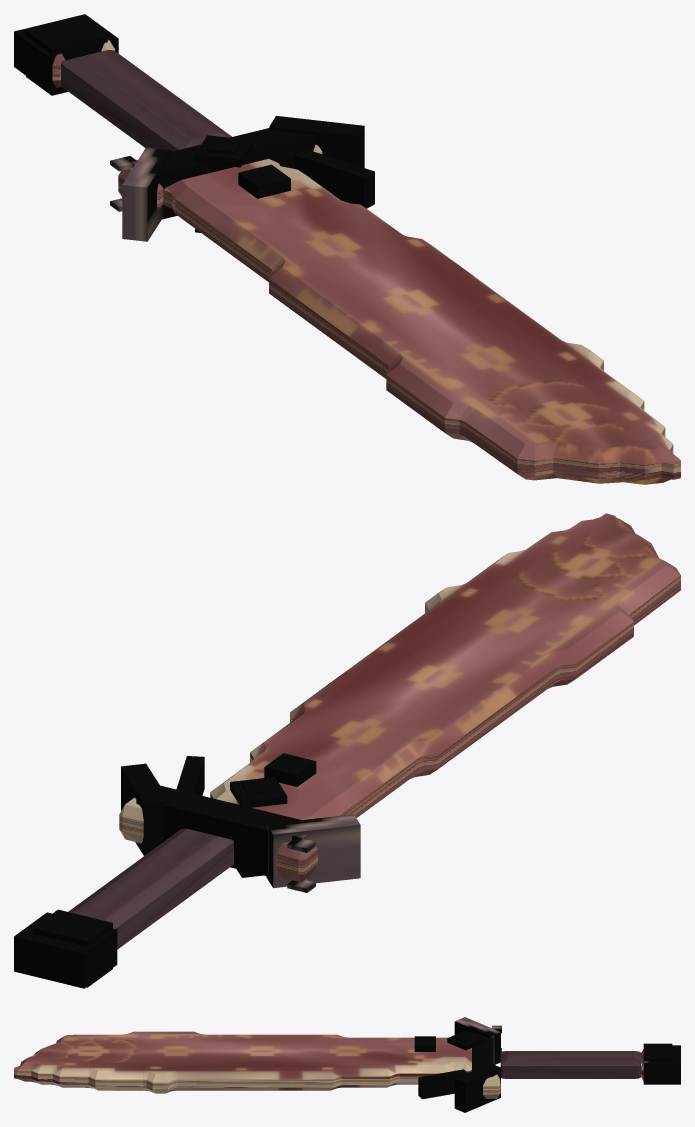
Rendered from crimson_warblade.obj.
3 renders of one model, top to bottom at view 1: azimuth 30°, elevation 25°; view 2: azimuth 150°, elevation 25°; view 3: azimuth 270°, elevation 25°, orthographic. The views are drawn at different scales.
Parts seen in each view (by area): view 1: crimson_warblade; view 2: crimson_warblade; view 3: crimson_warblade.
Boxes of the visible parts, x1,y1,x2,y2 form: crimson_warblade: [14, 14, 680, 484]; crimson_warblade: [14, 513, 680, 988]; crimson_warblade: [14, 1017, 680, 1112].
Size of the model in its own units: 0.34 by 0.1118 by 1.46.
